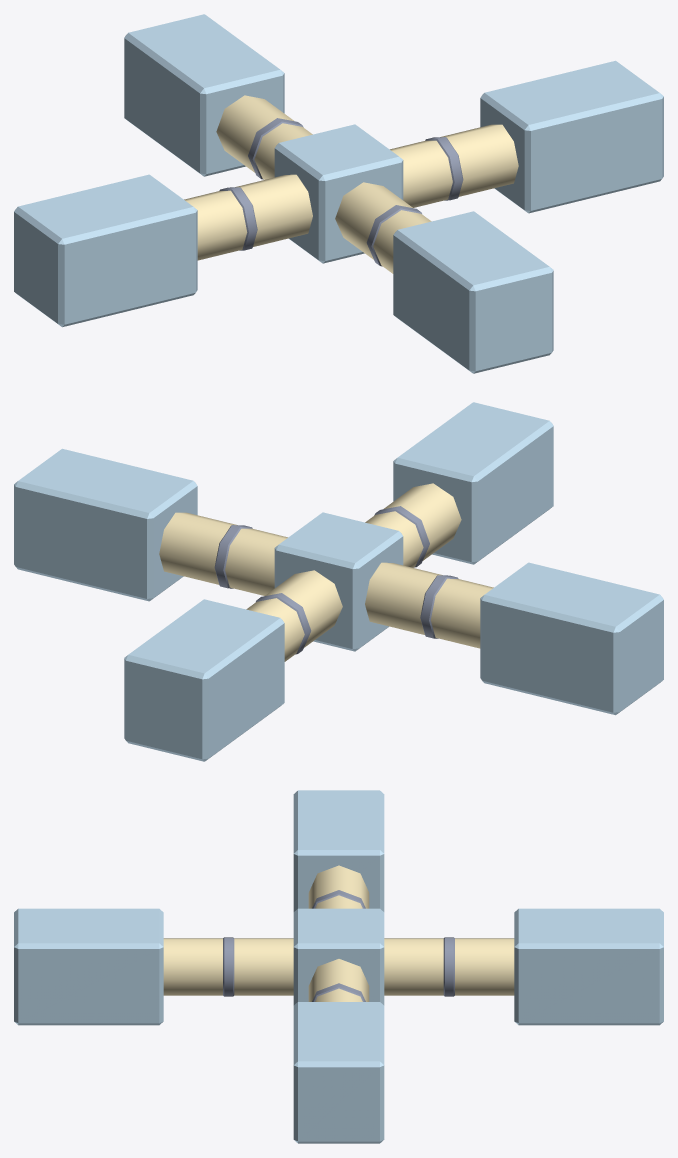
File: R4C_ROD_PLUS_LOD1.glb
3 views of the same model, one above another, from view 1: azimuth 30°, elevation 25°; view 2: azimuth 150°, elevation 25°; view 3: azimuth 270°, elevation 25° (orthographic). The views are drawn at different scales.
Parts seen in each view (by area): view 1: R4C_ROD_PLUS_LOD1; view 2: R4C_ROD_PLUS_LOD1; view 3: R4C_ROD_PLUS_LOD1.
Part boxes in pixels (box(x1,y1,x2,y2)): R4C_ROD_PLUS_LOD1: box(14, 14, 663, 373); R4C_ROD_PLUS_LOD1: box(14, 402, 663, 761); R4C_ROD_PLUS_LOD1: box(14, 790, 663, 1143).
Size of the model in its own units: 1.62 by 0.226 by 1.62.
